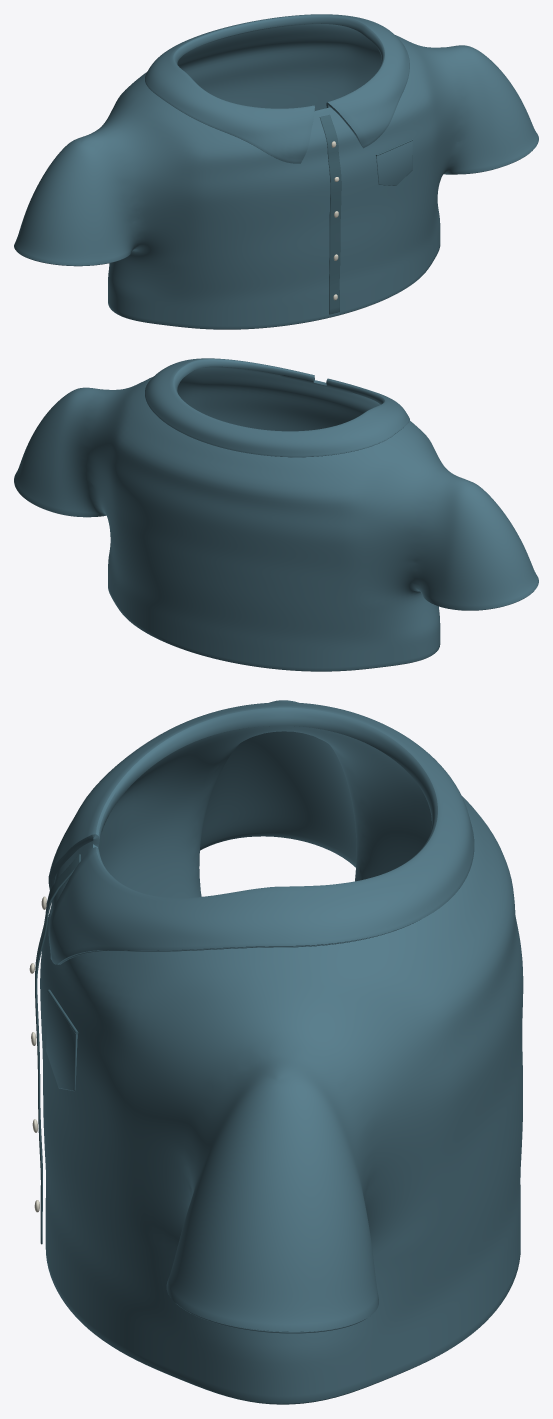
The model's file is Masculine-buttonup-top.glb.
3 renders of one model, top to bottom at view 1: azimuth 30°, elevation 25°; view 2: azimuth 150°, elevation 25°; view 3: azimuth 270°, elevation 25°, orthographic. The views are drawn at different scales.
Parts seen in each view (by area): view 1: Clothing / joined buttonup186, Button-up / closed placket, Button-up / chest pocket; view 2: Clothing / joined buttonup186; view 3: Clothing / joined buttonup186, Button-up / chest pocket, Button-up / closed placket.
Part boxes in pixels (bbox=[...]): Clothing / joined buttonup186: bbox=[14, 14, 538, 329]; Button-up / closed placket: bbox=[319, 114, 341, 314]; Button-up / chest pocket: bbox=[376, 141, 412, 185]; Clothing / joined buttonup186: bbox=[14, 358, 538, 671]; Clothing / joined buttonup186: bbox=[40, 700, 523, 1403]; Button-up / chest pocket: bbox=[46, 993, 77, 1091]; Button-up / closed placket: bbox=[35, 854, 80, 1244].
Size of the model in its own units: 1.12 by 0.4715 by 0.4662.
